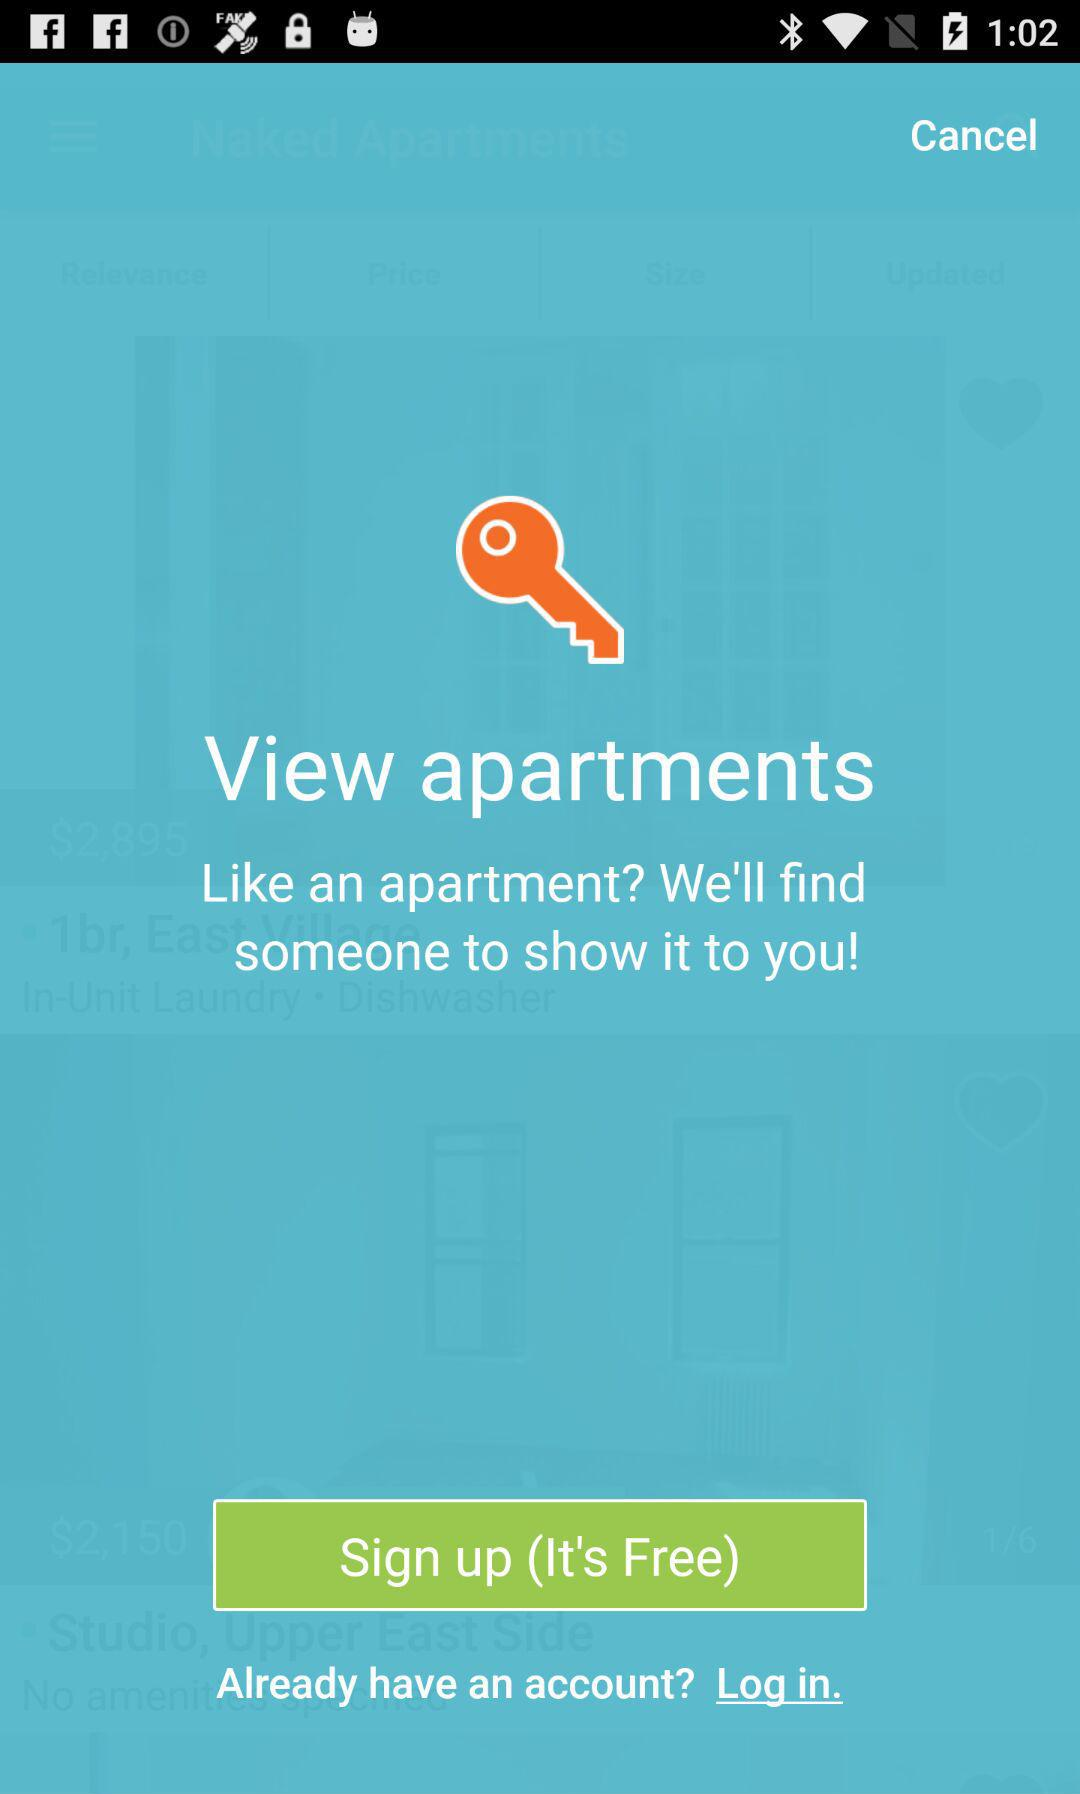Image: (456, 496, 625, 666)
Text: (204, 861, 865, 983), (205, 736, 874, 820), (217, 1665, 844, 1708), (911, 118, 1036, 152)
TextButton: (213, 1498, 869, 1612)
UpperTaskBar: (1, 1, 1080, 64)
